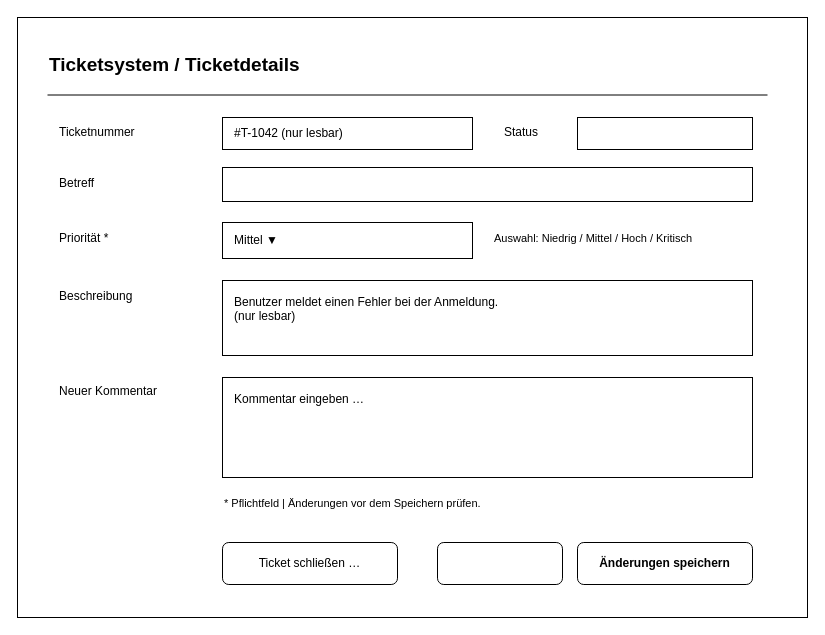
Some shapes in this 825 by 635 pixel diagram are drawn without their labels. Here are the shapes that lost their labels. From the top down, the centre of each, then its label:
point 664,133: Offen
point 487,184: Anmeldung am Kundenportal nicht möglich
point 499,563: Abbrechen
